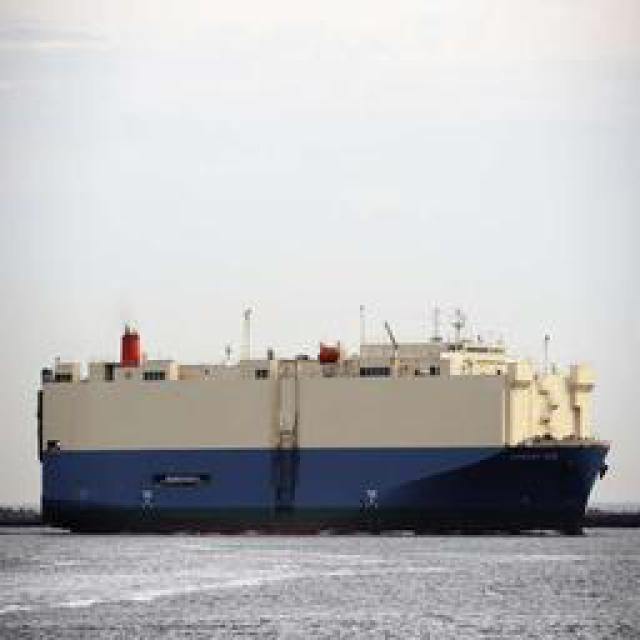Ship: (27, 336, 615, 536)
